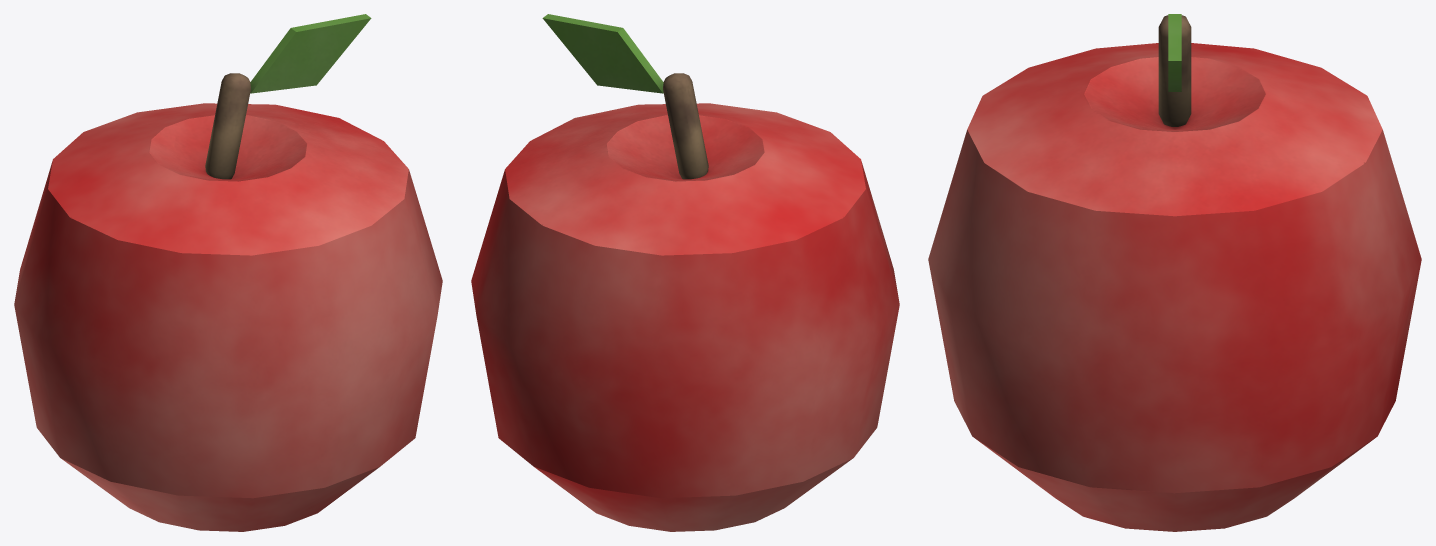
File: apple.fbx
3 views of the same model, side by side, from view 1: azimuth 30°, elevation 25°; view 2: azimuth 150°, elevation 25°; view 3: azimuth 270°, elevation 25° (orthographic). The views are drawn at different scales.
Visible parts, largest first — view 1: Body; view 2: Body; view 3: Body.
Part boxes in pixels (x1,y1,x2,y2): Body: [14, 14, 442, 531]; Body: [471, 14, 899, 531]; Body: [928, 14, 1421, 531].
Bounding box in the file's own units: 0.3771 × 0.4287 × 0.3789.
1 material, 1 textured.
